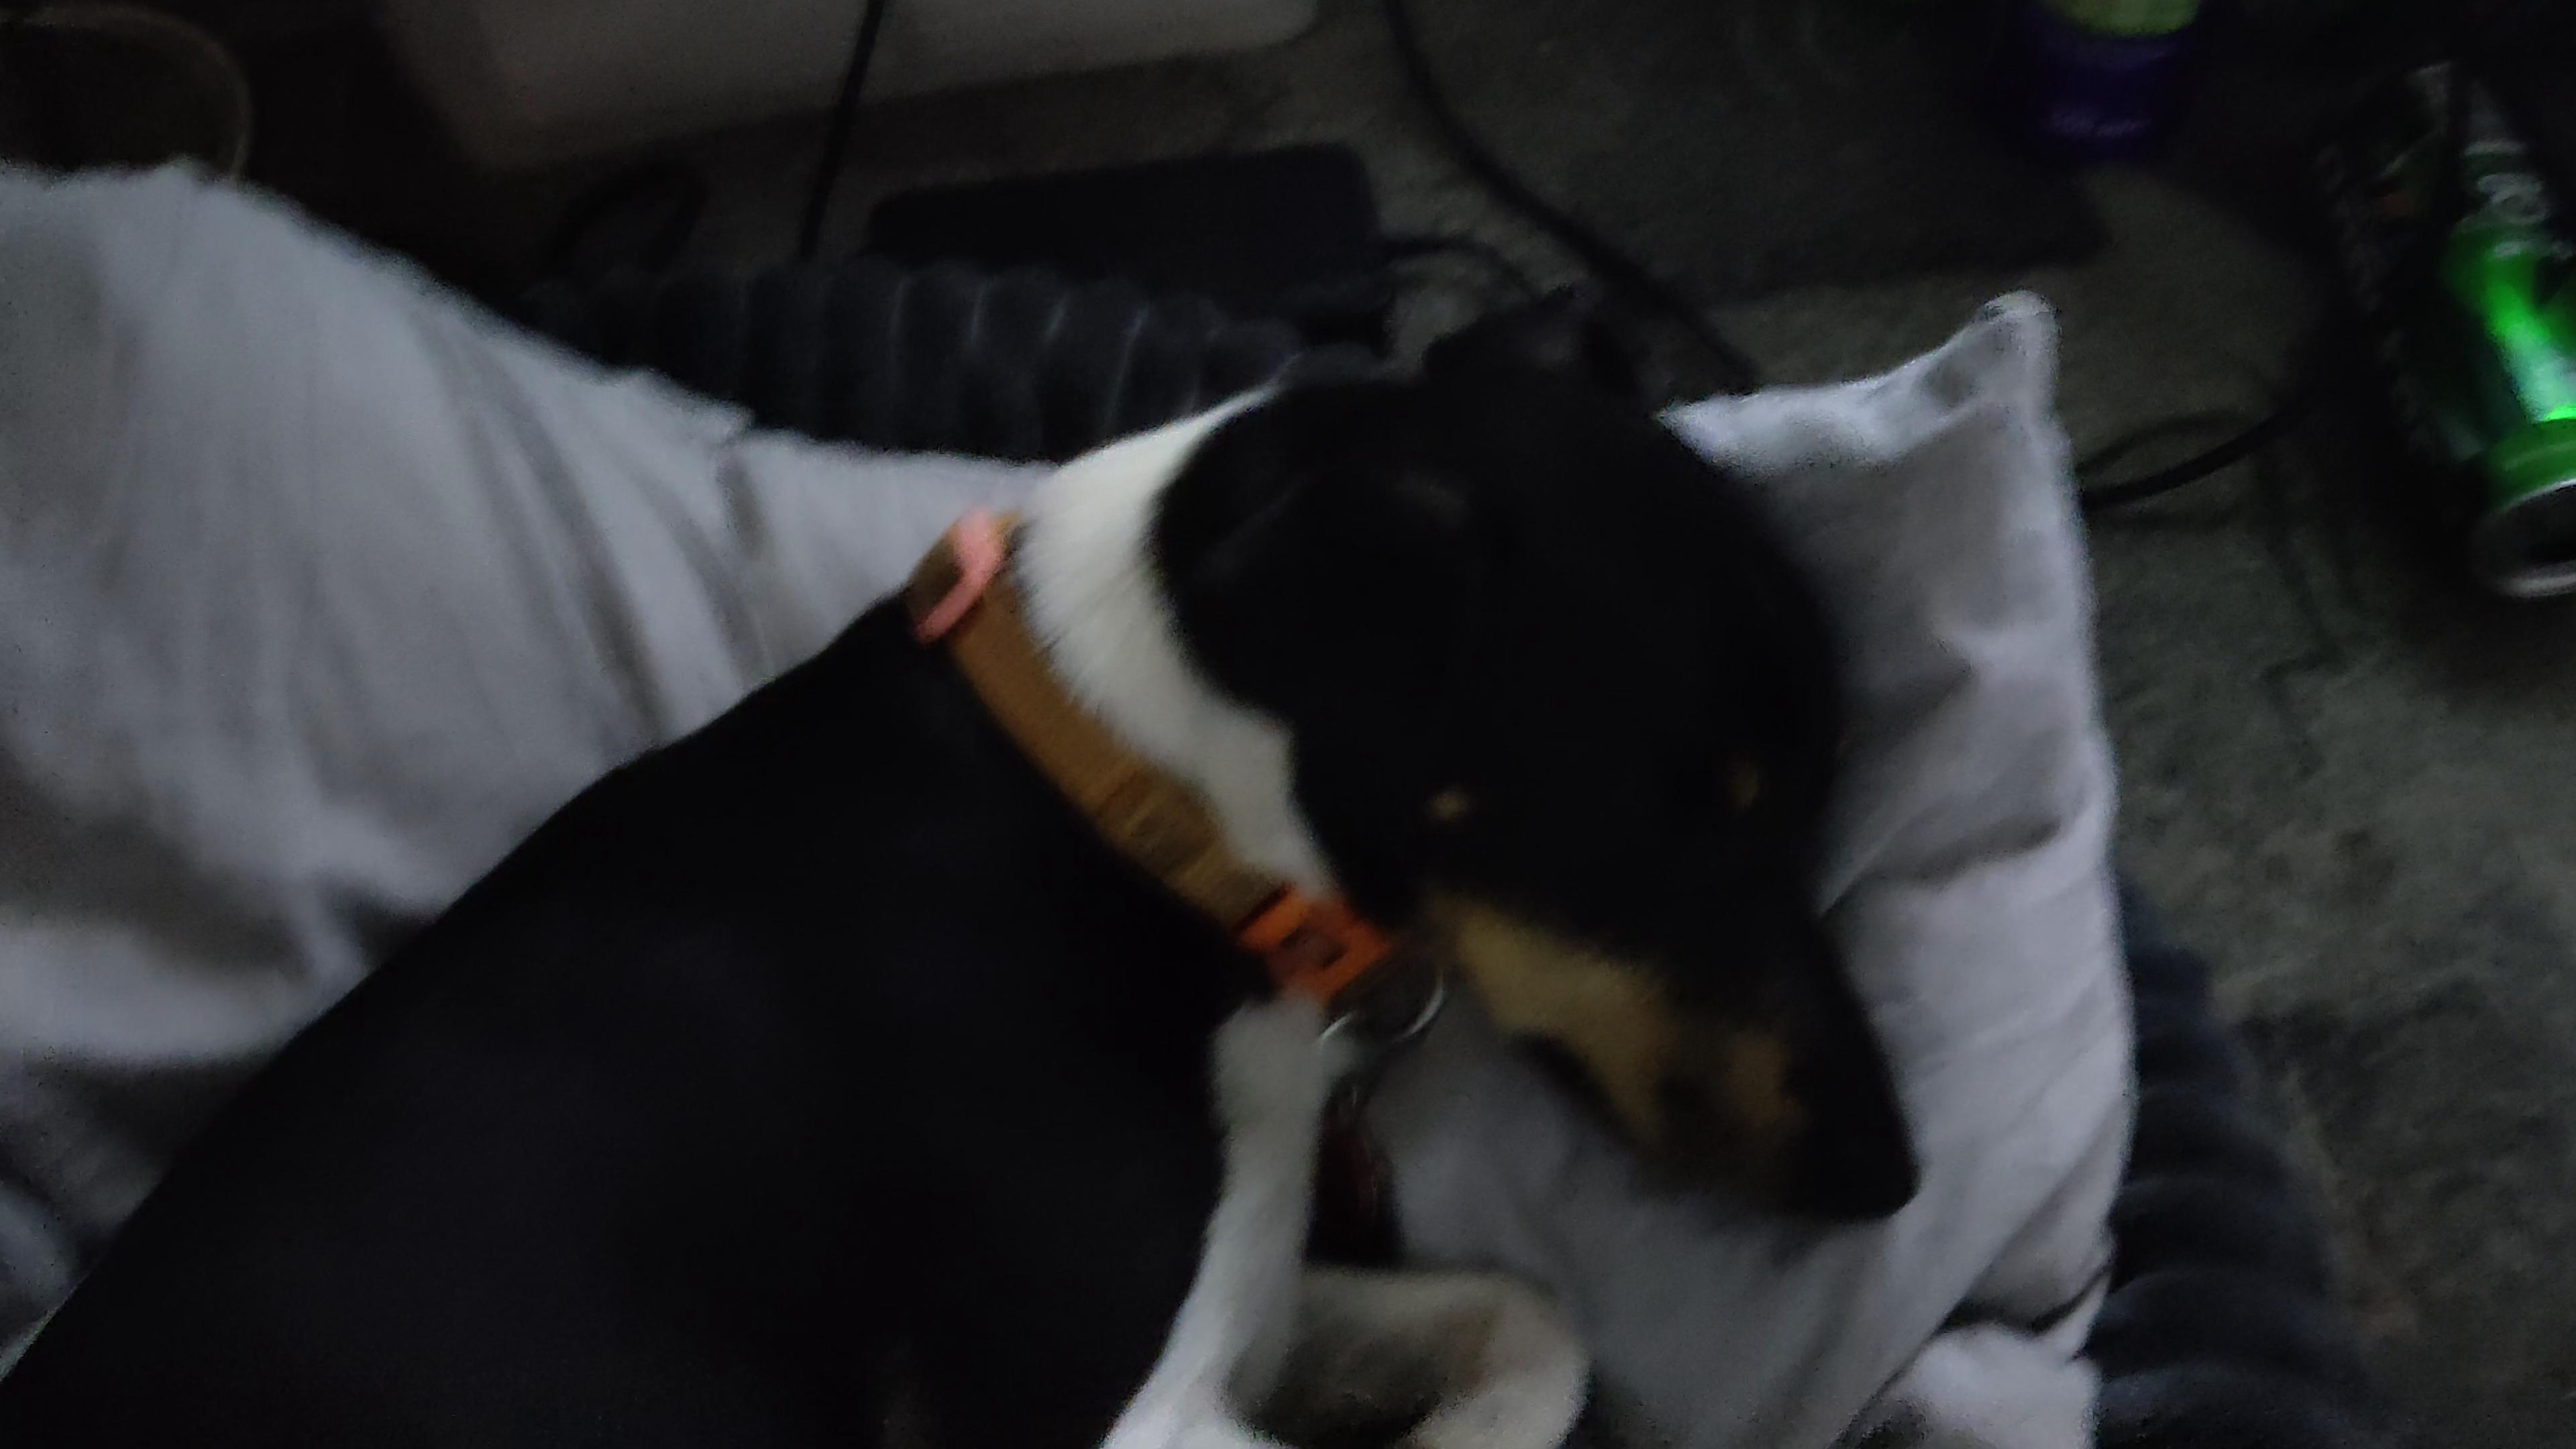Dog: (0, 265, 1934, 1449)
